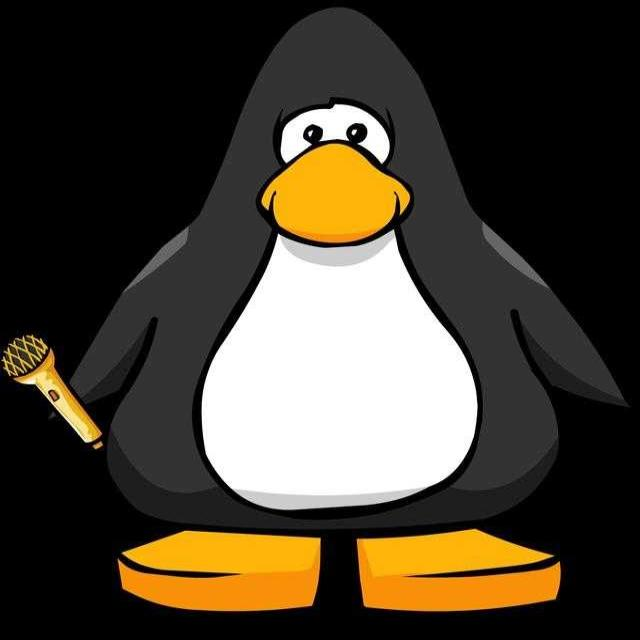microphone: (0, 330, 107, 452)
